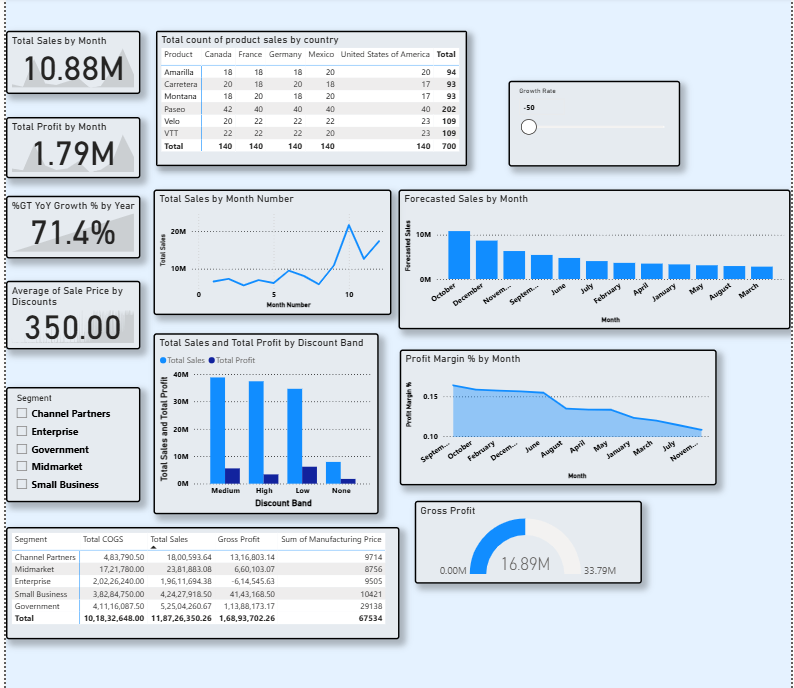

The page's visual inventory and layout, read from the dashboard file:
{"tool":"powerbi","page":{"name":"Historical Analysis","canvas":[1280,1200],"ordinal":0},"visuals":[{"type":"kpi","fields":{"Indicator":["Sheet1.Total Sales"],"TrendLine":["Calendar.Month"]},"box":[0,56,219,103],"z":0},{"type":"kpi","fields":{"Indicator":["Sheet1.Total Profit"],"TrendLine":["Calendar.Month"]},"box":[0,195.2,219,100],"z":1000},{"type":"kpi","fields":{"Indicator":["Sheet1.YoY Growth %"],"TrendLine":["Calendar.Year"]},"box":[0,325,219,102],"z":2000},{"type":"lineChart","fields":{"Category":["Calendar.Month Number"],"Y":["Sheet1.Total Sales"]},"box":[240.5,313.1,388,205],"z":3000},{"type":"pivotTable","title":"Total count of product sales by country","fields":{"Columns":["Sheet1.Country"],"Rows":["Sheet1.Product"],"Values":["CountNonNull(Sheet1.Units Sold)"]},"box":[245.2,56,507,221],"z":4000},{"type":"kpi","fields":{"Indicator":["Avg(Sheet1.Sale Price)"],"TrendLine":["Sheet1.Discounts"]},"box":[0,461.9,219,112],"z":5000},{"type":"slicer","fields":{"Values":["Sheet1.Segment"]},"box":[0,635.7,219,188],"z":6000},{"type":"slicer","fields":{"Values":["Growth Rate.Growth Rate"]},"box":[819,136.9,280,140],"z":6001},{"type":"columnChart","fields":{"Category":["Calendar.Month"],"Y":["Sheet1.Forecasted Sales"]},"box":[640.5,313.1,639.1,228.1],"z":6002},{"type":"areaChart","fields":{"Category":["Calendar.Month"],"Y":["Sheet1.Profit Margin %"]},"box":[641.7,573.8,517.2,221.9],"z":6003},{"type":"clusteredColumnChart","fields":{"Category":["Sheet1.Discount Band"],"Y":["Sheet1.Total Sales","Sheet1.Total Profit"]},"box":[240.5,548.8,367,295],"z":6004},{"type":"gauge","fields":{"Y":["Sheet1.Gross Profit"]},"box":[666.7,821.4,370,135],"z":6005},{"type":"pivotTable","fields":{"Rows":["Sheet1.Segment"],"Values":["Sheet1.Total COGS","Sheet1.Total Sales","Sheet1.Gross Profit","Sum(Sheet1.Manufacturing Price)"]},"box":[0,864.3,641.7,183.3],"z":6006}]}

Visuals, with their boxes in screenshot pixels (x1, y1, x2, y2):
kpi - Sheet1.Total Sales x Calendar.Month: Rect(6, 18, 139, 80)
kpi - Sheet1.Total Profit x Calendar.Month: Rect(6, 102, 139, 163)
kpi - Sheet1.YoY Growth % x Calendar.Year: Rect(6, 181, 139, 243)
lineChart - Calendar.Month Number x Sheet1.Total Sales: Rect(152, 174, 388, 299)
"Total count of product sales by country" pivotTable: Rect(155, 18, 464, 152)
kpi - Avg(Sheet1.Sale Price) x Sheet1.Discounts: Rect(6, 264, 139, 333)
slicer - Sheet1.Segment: Rect(6, 370, 139, 484)
slicer - Growth Rate.Growth Rate: Rect(504, 67, 675, 152)
columnChart - Calendar.Month x Sheet1.Forecasted Sales: Rect(396, 174, 784, 313)
areaChart - Calendar.Month x Sheet1.Profit Margin %: Rect(396, 332, 711, 467)
clusteredColumnChart - Sheet1.Discount Band x Sheet1.Total Sales: Rect(152, 317, 376, 497)
gauge - Sheet1.Gross Profit: Rect(412, 483, 637, 565)
pivotTable - Sheet1.Segment x Sheet1.Total COGS: Rect(6, 509, 396, 621)
